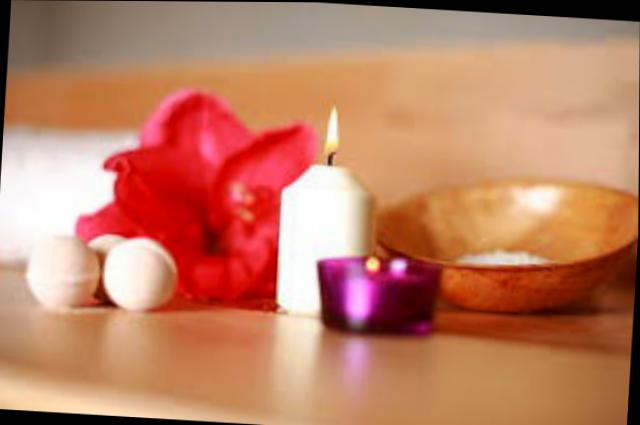fire: (316, 96, 353, 160)
